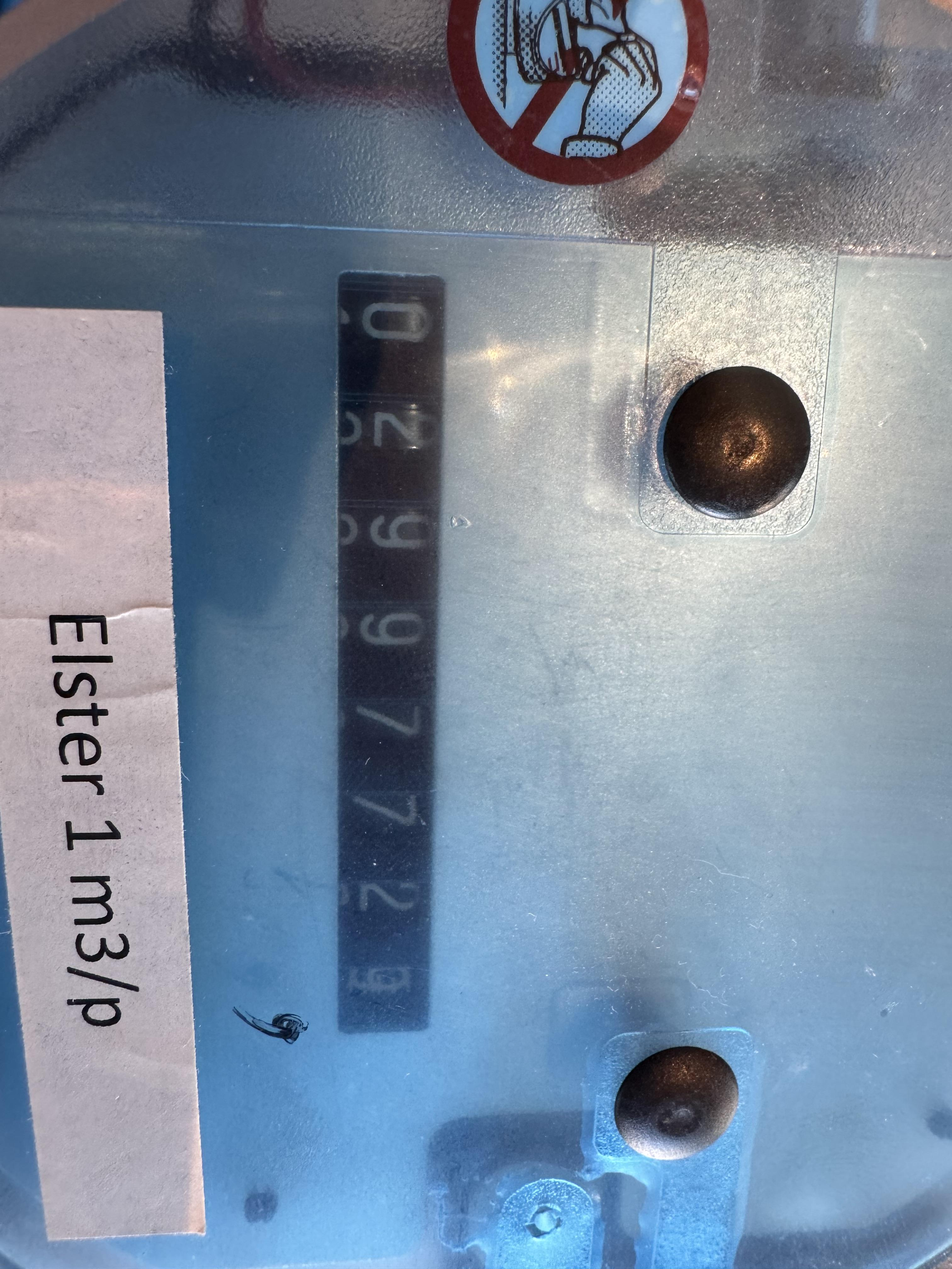analog_dial: (247, 262, 454, 1055)
